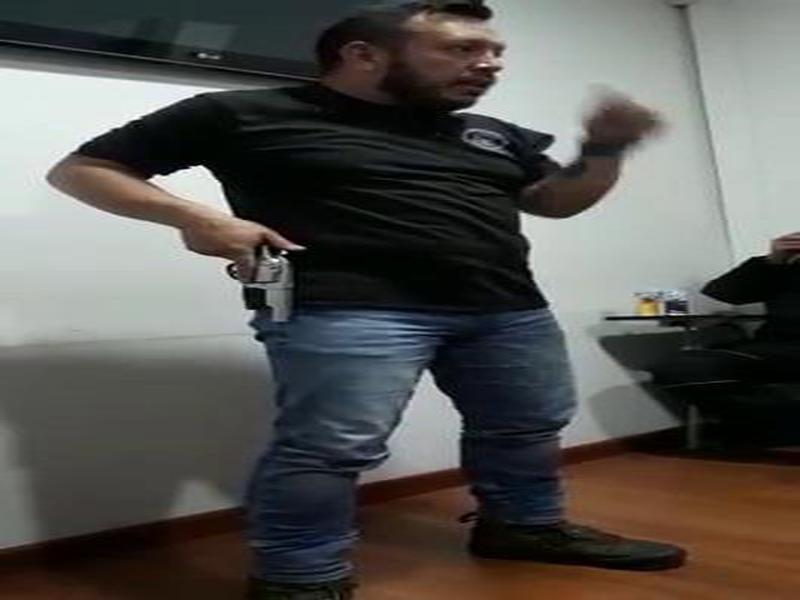Revolver: (220, 227, 320, 363)
